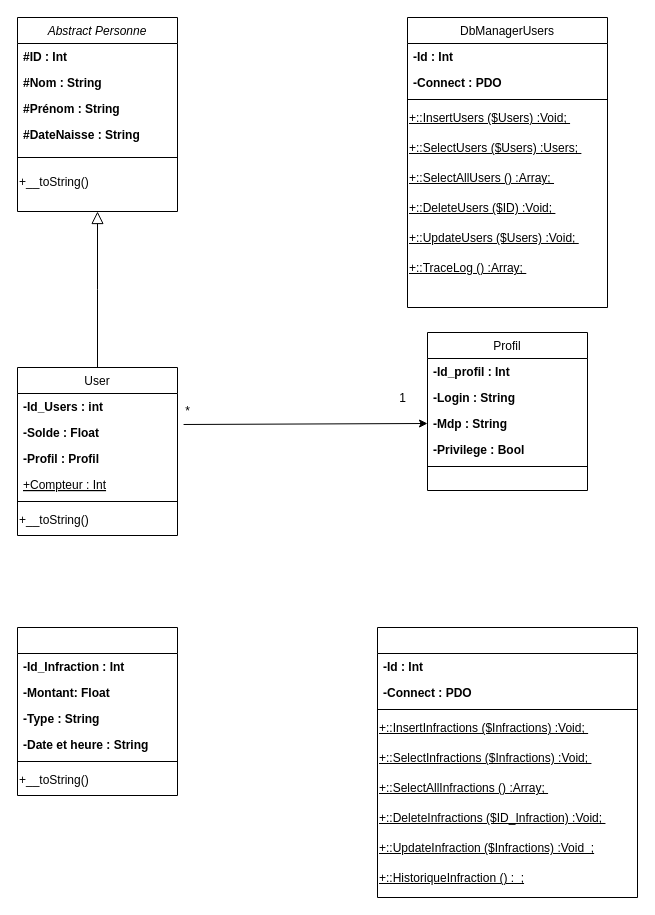
Image size: 655x915. Some labels were removed from this diagram. The shapes that lost their labels are listed below. From the top down, each one's box as (x1, y1, x2, y2) in pixels, then its label:
(16, 626, 178, 796): Infractions
(376, 626, 638, 898): DbManagerInfractions
